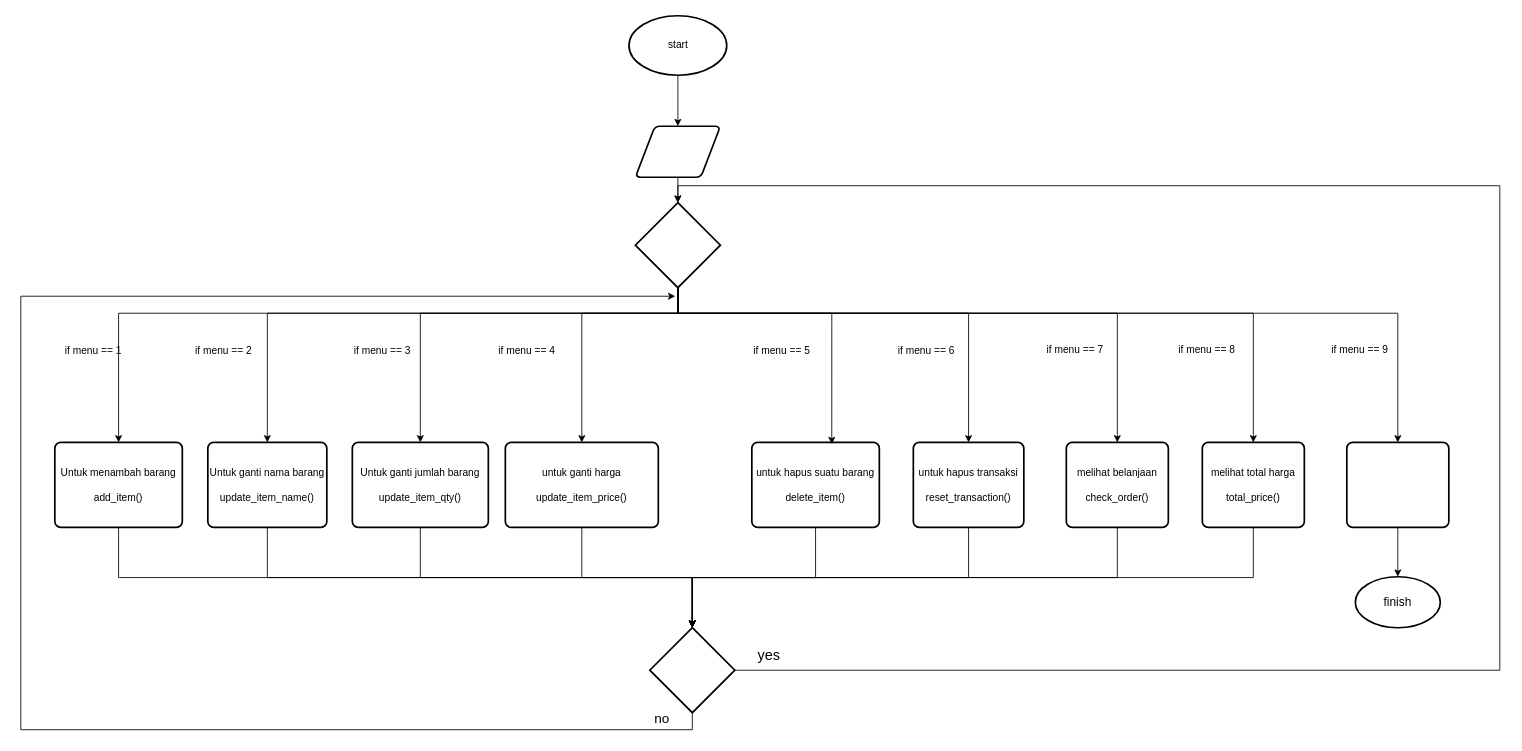
The diagram is 1522 pixels wide and 751 high, and some of its shapes have lost their labels. Each missing label, with the centre of its shape:
input id: point (677, 151)
input menu: point (677, 244)
ke menu lain?: point (692, 669)
keluar dari menu: point (1397, 484)
